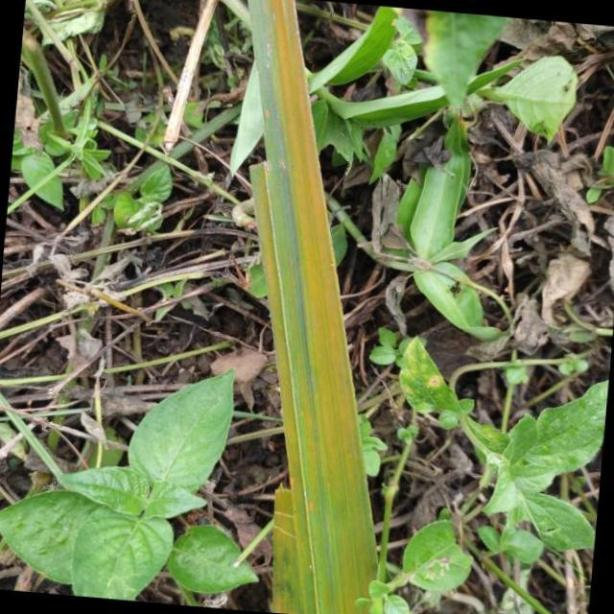Megnesium: (226, 3, 383, 614)
